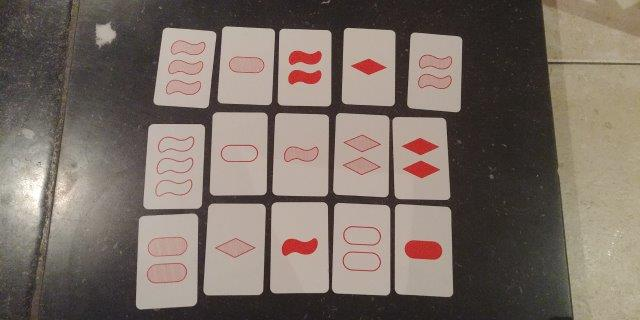1EP: (215, 115, 263, 193)
1FD: (346, 32, 392, 103)
1FP: (397, 209, 447, 292)
1FW: (274, 204, 322, 290)
1HD: (209, 208, 259, 294)
1HP: (224, 30, 270, 101)
1HW: (277, 116, 325, 192)
2EP: (335, 207, 385, 291)
2FD: (396, 121, 444, 196)
2FW: (281, 32, 328, 104)
2HD: (339, 117, 385, 193)
2HP: (140, 218, 193, 303)
2HW: (412, 37, 458, 107)
3EW: (149, 127, 199, 206)
3HW: (163, 33, 208, 103)
